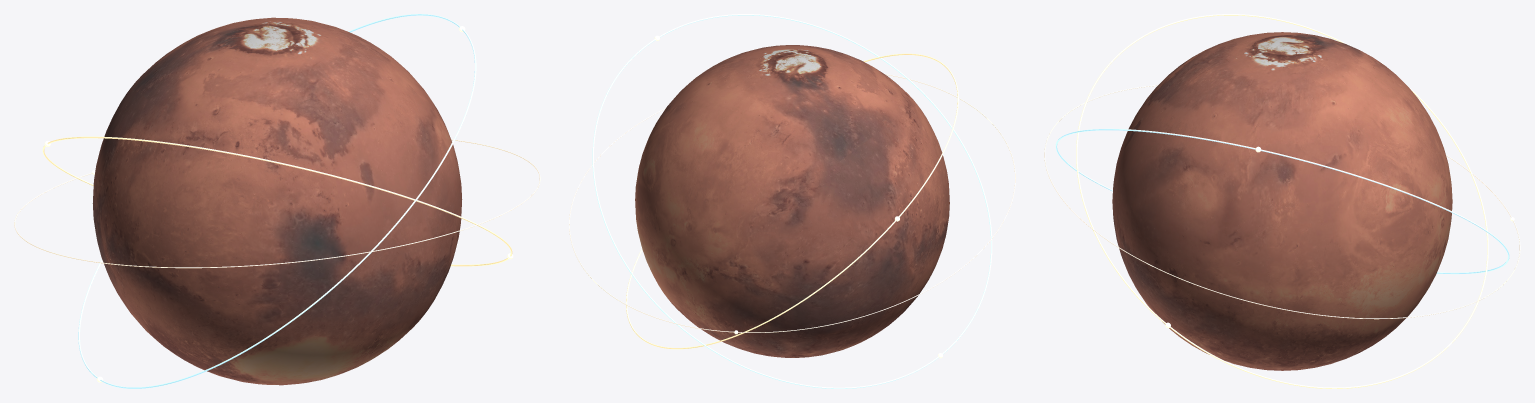
The model's file is mars-with-orbits.glb.
The picture shows the model from 3 angles, left to right: view 1: azimuth 30°, elevation 25°; view 2: azimuth 150°, elevation 25°; view 3: azimuth 270°, elevation 25°; orthographic projection. The views are drawn at different scales.
Visible parts, largest first — view 1: Cube.008, Ice_3D_orbit, Amber_3D_orbit, Soft_3D_orbit; view 2: Cube.008, Ice_3D_orbit, Amber_3D_orbit, Soft_3D_orbit; view 3: Cube.008, Amber_3D_orbit, Ice_3D_orbit, Soft_3D_orbit.
Part boxes in pixels (x1=…): Cube.008: x1=92, y1=17, x2=462, y2=385; Ice_3D_orbit: x1=78, y1=14, x2=476, y2=388; Amber_3D_orbit: x1=42, y1=136, x2=512, y2=266; Soft_3D_orbit: x1=14, y1=139, x2=540, y2=268; Cube.008: x1=635, y1=45, x2=949, y2=357; Ice_3D_orbit: x1=592, y1=14, x2=992, y2=388; Amber_3D_orbit: x1=626, y1=53, x2=958, y2=349; Soft_3D_orbit: x1=569, y1=74, x2=1015, y2=332; Cube.008: x1=1112, y1=32, x2=1452, y2=370; Amber_3D_orbit: x1=1076, y1=14, x2=1488, y2=388; Ice_3D_orbit: x1=1055, y1=128, x2=1509, y2=274; Soft_3D_orbit: x1=1044, y1=85, x2=1520, y2=319.
Size of the model in its own units: 1432 by 994 by 1399.
Materials: 7 (1 with a texture image).
